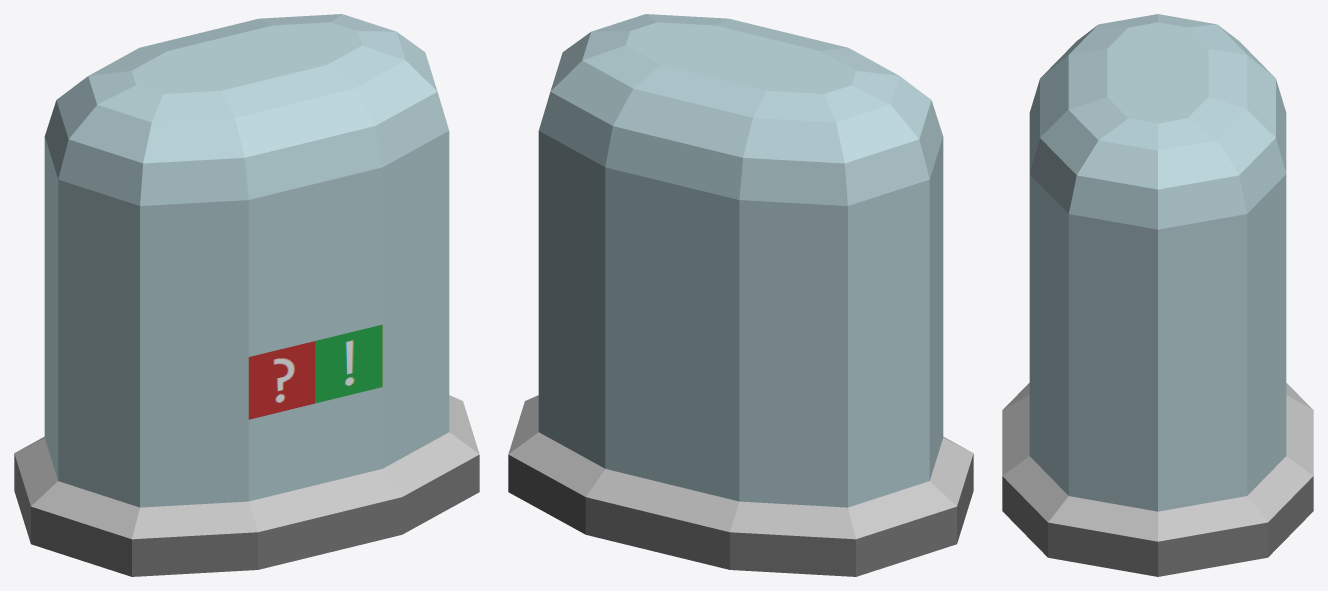
The model's file is ShopDome.obj.
3 renders of one model, left to right at view 1: azimuth 30°, elevation 25°; view 2: azimuth 150°, elevation 25°; view 3: azimuth 270°, elevation 25°, orthographic. The views are drawn at different scales.
Parts seen in each view (by area): view 1: Dome_Cylinder, Buy_Cylinder.002, Info_Cylinder.001; view 2: Dome_Cylinder; view 3: Dome_Cylinder.
Boxes of the visible parts, x1=… form: Dome_Cylinder: x1=14, y1=14, x2=479, y2=576; Buy_Cylinder.002: x1=315, y1=324, x2=382, y2=403; Info_Cylinder.001: x1=248, y1=341, x2=315, y2=419; Dome_Cylinder: x1=508, y1=14, x2=973, y2=576; Dome_Cylinder: x1=1002, y1=14, x2=1313, y2=576.
Bounding box in the file's own units: 3 × 2.88 × 2.
1 material, 1 textured.
